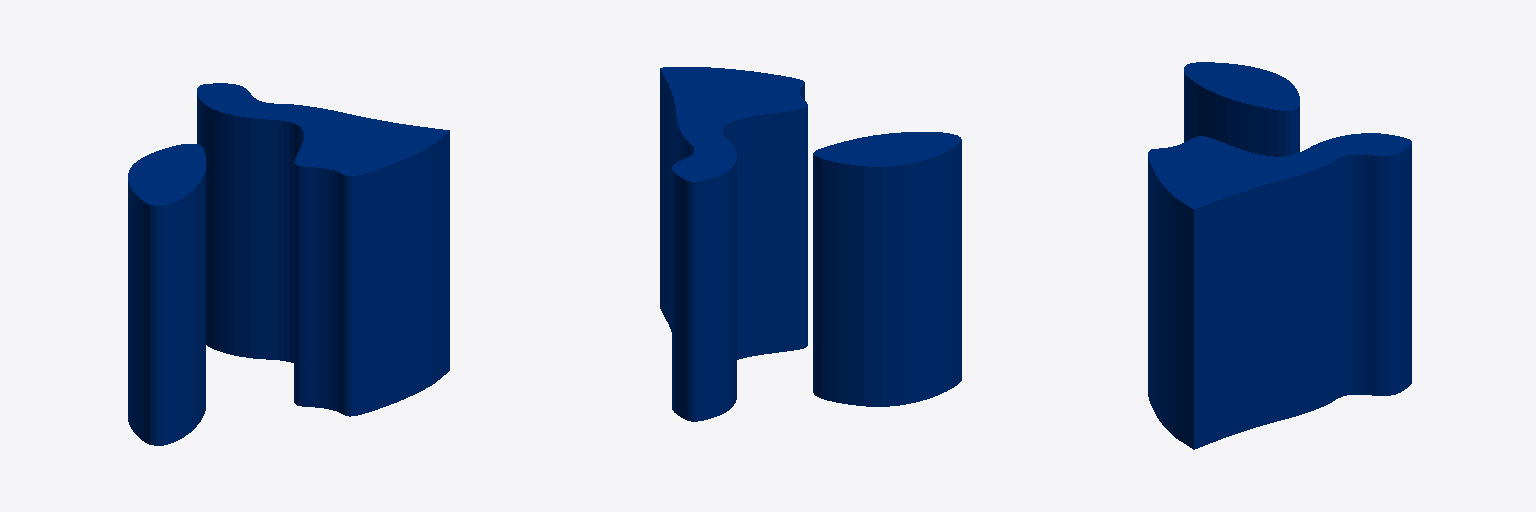
3 renders of one model, left to right at view 1: azimuth 30°, elevation 25°; view 2: azimuth 150°, elevation 25°; view 3: azimuth 270°, elevation 25°, orthographic.
Visible parts, largest first — view 1: Curve.027_path4230; view 2: Curve.027_path4230; view 3: Curve.027_path4230.
Part boxes in pixels (bbox=[...]): Curve.027_path4230: bbox=[128, 83, 449, 445]; Curve.027_path4230: bbox=[660, 67, 961, 421]; Curve.027_path4230: bbox=[1148, 62, 1411, 449].
Size of the model in its own units: 0.1319 by 0.1 by 0.0996.